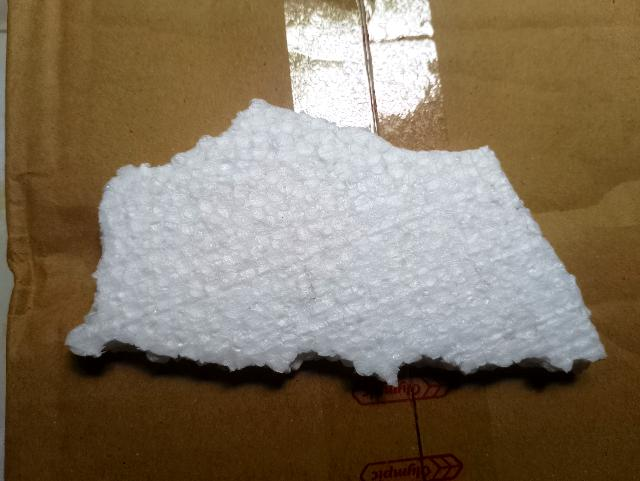cocksheet: (92, 107, 574, 387)
